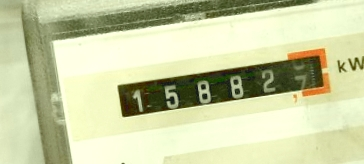1: (128, 85, 146, 114)
2: (258, 65, 278, 95)
5: (160, 81, 182, 110)
7: (291, 71, 309, 90)
8: (193, 76, 212, 106), (226, 71, 245, 101)
screen: (101, 38, 342, 132)
